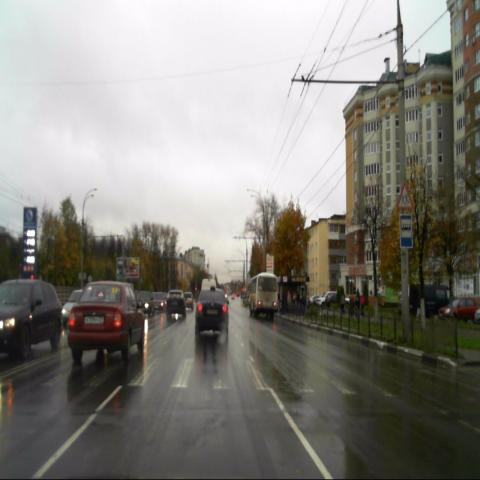1_23: (396, 184, 412, 212)
5_16: (400, 213, 413, 248)
